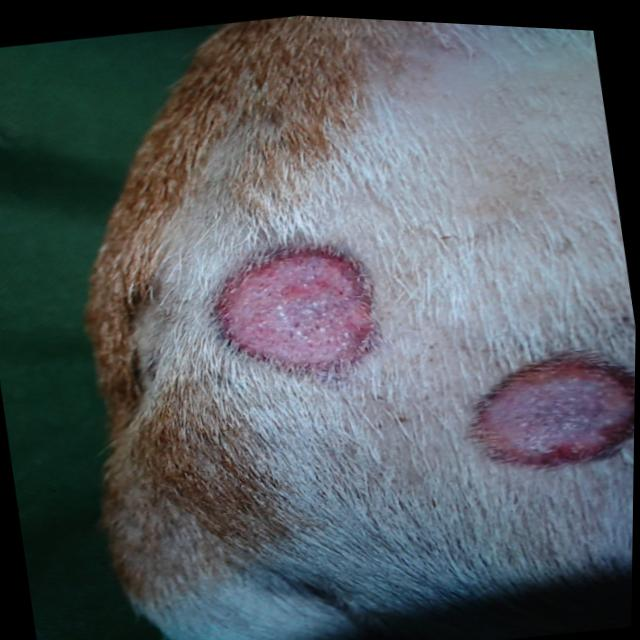ringworm: (165, 206, 408, 399), (431, 331, 636, 479)
